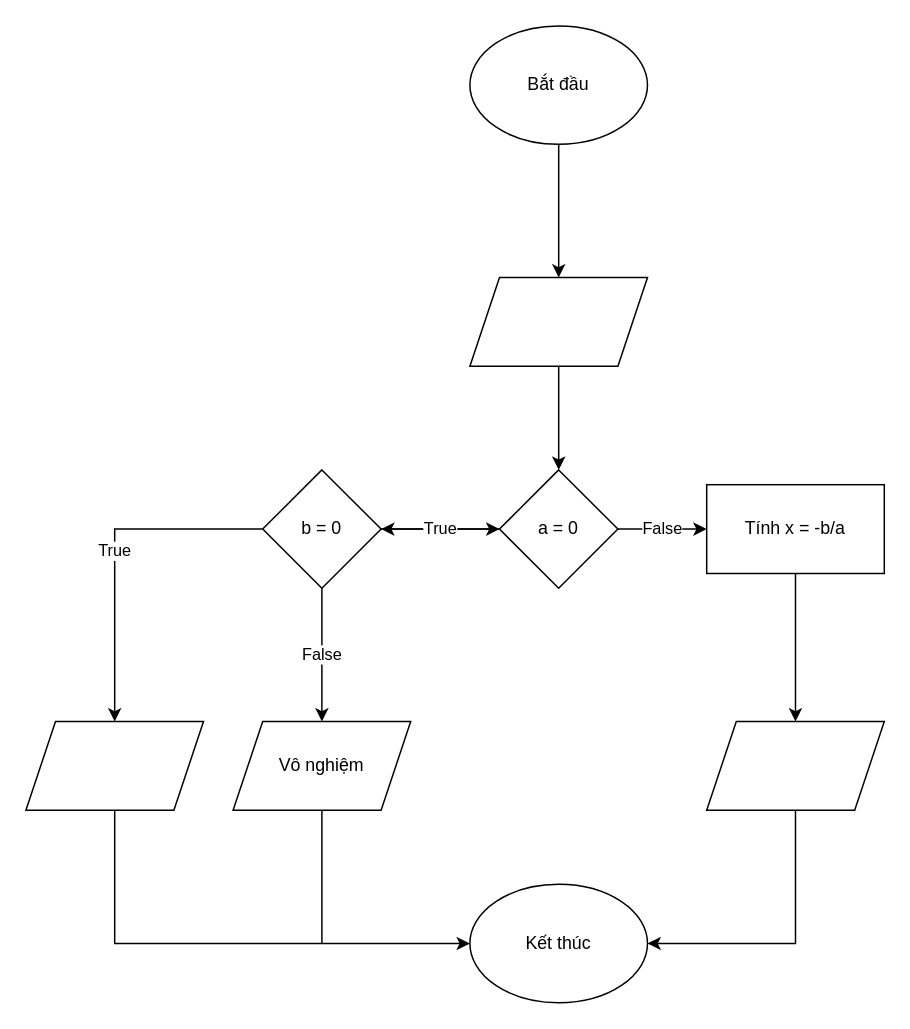
The diagram is 910 pixels wide and 1029 high, and some of its shapes have lost their labels. The shapes that lost their labels are listed below. From the top down, each one's box as (x1, y1, x2, y2) in pixels, then its label:
(468, 276, 648, 366): Nhập a, b
(24, 720, 204, 810): Vô số nghiệm
(705, 720, 884, 810): In ra đáp án X
